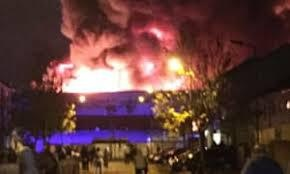fire: (59, 21, 196, 98)
